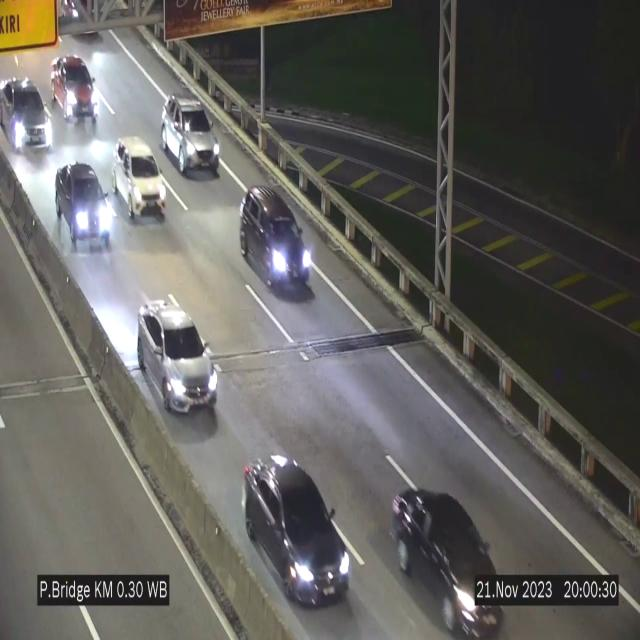Car: (388, 482, 503, 640), (244, 454, 350, 606), (137, 300, 217, 414), (240, 180, 314, 302), (54, 154, 112, 252), (161, 94, 220, 175), (114, 136, 166, 221), (51, 51, 101, 129), (1, 78, 52, 150)
